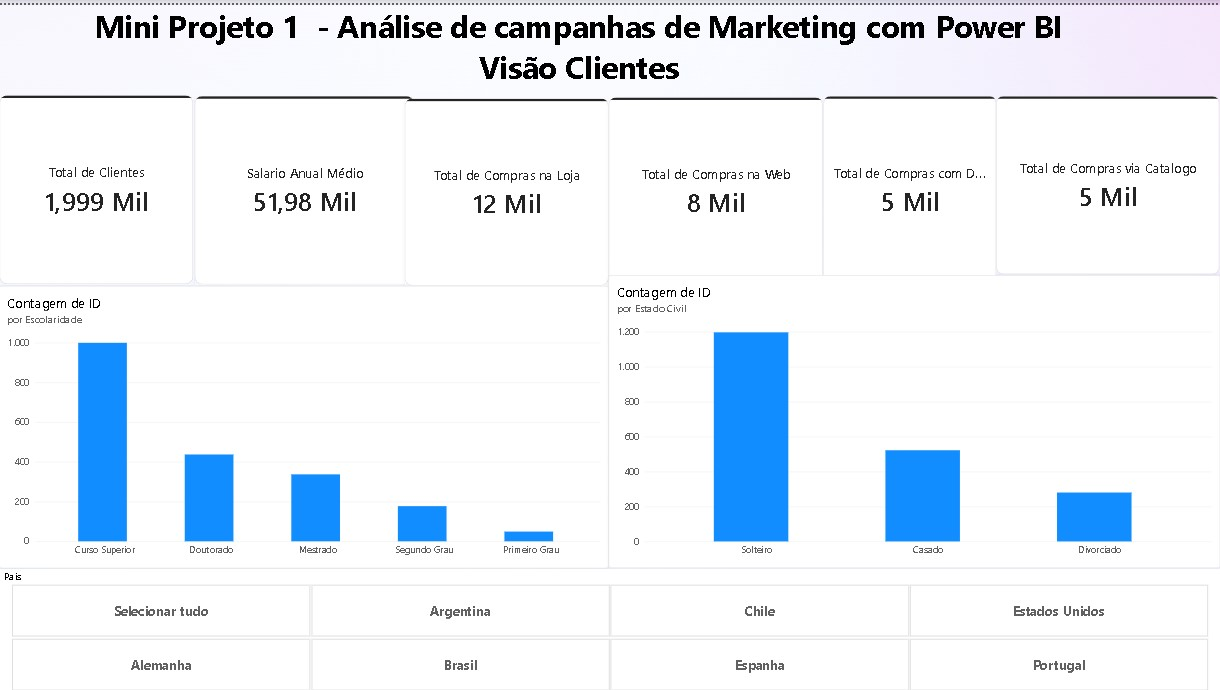

This screenshot's page, from the dashboard's own definition file:
{"tool":"powerbi","page":{"name":"Visão Cliente","canvas":[1920,1080],"ordinal":0},"visuals":[{"type":"cardVisual","fields":{"Data":["CountNonNull(DadosMarketing.ID)"]},"box":[0,142.2,306.8,298.7],"z":0},{"type":"cardVisual","fields":{"Data":["Avg(DadosMarketing.Salario Anual)"]},"box":[306.8,143.6,345.4,296.7],"z":1000},{"type":"cardVisual","fields":{"Data":["Sum(DadosMarketing.Numero de Compras na Loja)"]},"box":[638,146.3,321,294.6],"z":2000},{"type":"cardVisual","fields":{"Data":["Sum(DadosMarketing.Numero de Compras na Web)"]},"box":[959,145.6,337.3,296.7],"z":3000},{"type":"cardVisual","fields":{"Data":["Sum(DadosMarketing.Numero de Compras com Desconto)"]},"box":[1296.3,143.6,272.3,296.7],"z":4000},{"type":"cardVisual","fields":{"Data":["Sum(DadosMarketing.Numero de Compras via Catalogo)"]},"box":[1568.6,144.3,351.5,280.4],"z":5000},{"type":"textbox","box":[117.8,0,1588.9,128],"z":6000},{"type":"clusteredColumnChart","fields":{"Category":["DadosMarketing.Escolaridade"],"Y":["CountNonNull(DadosMarketing.ID)"]},"box":[0,441.5,959,443.9],"z":7000},{"type":"clusteredColumnChart","fields":{"Category":["DadosMarketing.Estado Civil"],"Y":["CountNonNull(DadosMarketing.ID)"]},"box":[959,424.3,961.4,461.1],"z":8000},{"type":"slicer","fields":{"Values":["DadosMarketing.Pais"]},"box":[0,885.9,1920.1,193],"z":9000}]}

Visuals, with their boxes in screenshot pixels (x1, y1, x2, y2), scaled from the page's 1920x1080 canvas onto the 1220x690 screenshot:
cardVisual - CountNonNull(DadosMarketing.ID): select_region(0, 91, 195, 282)
cardVisual - Avg(DadosMarketing.Salario Anual): select_region(195, 92, 414, 281)
cardVisual - Sum(DadosMarketing.Numero de Compras na Loja): select_region(405, 93, 609, 282)
cardVisual - Sum(DadosMarketing.Numero de Compras na Web): select_region(609, 93, 824, 283)
cardVisual - Sum(DadosMarketing.Numero de Compras com Desconto): select_region(824, 92, 997, 281)
cardVisual - Sum(DadosMarketing.Numero de Compras via Catalogo): select_region(997, 92, 1219, 271)
textbox: select_region(75, 0, 1084, 82)
clusteredColumnChart - DadosMarketing.Escolaridade x CountNonNull(DadosMarketing.ID): select_region(0, 282, 609, 566)
clusteredColumnChart - DadosMarketing.Estado Civil x CountNonNull(DadosMarketing.ID): select_region(609, 271, 1219, 566)
slicer - DadosMarketing.Pais: select_region(0, 566, 1219, 689)
